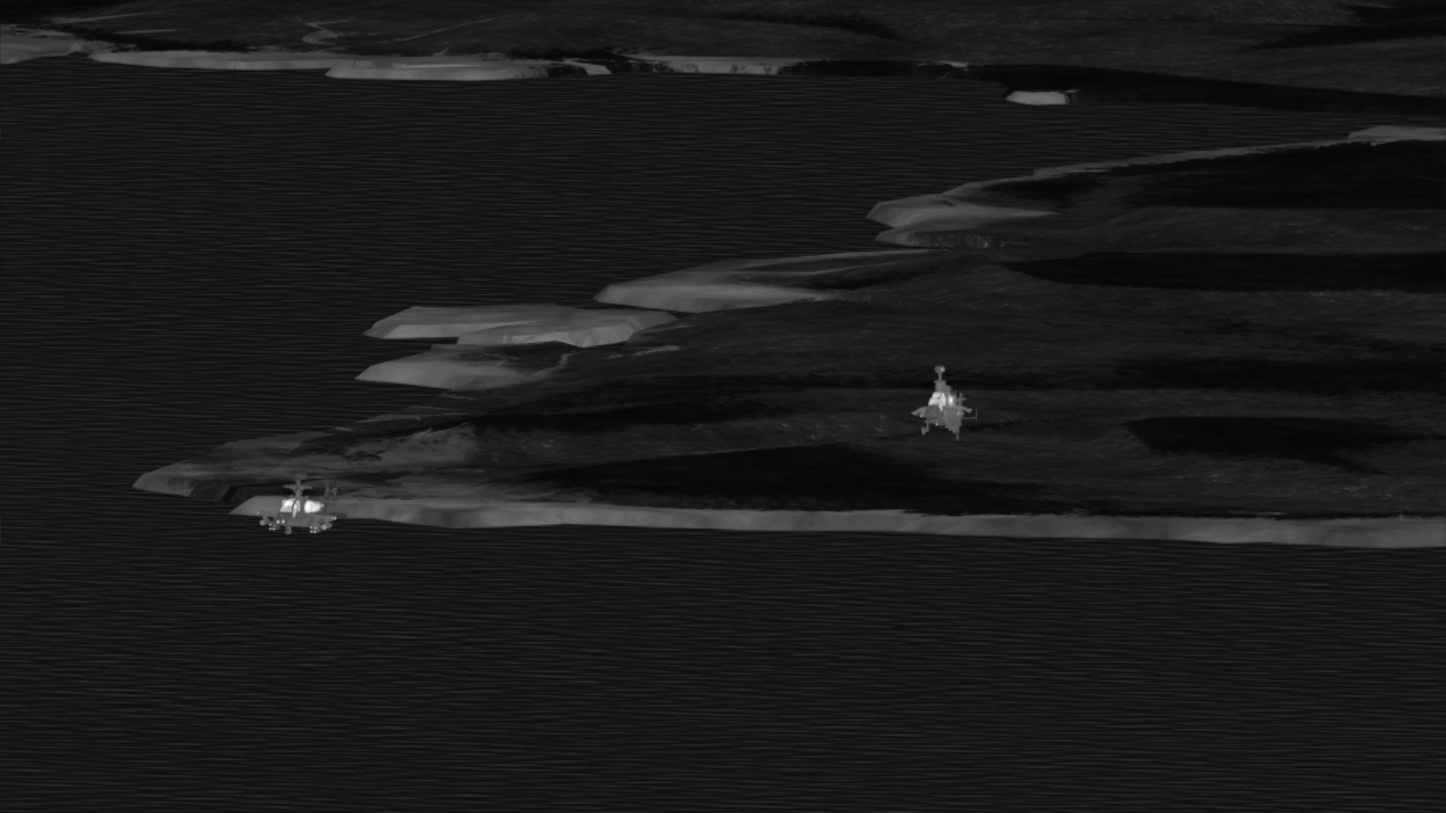ah64: (256, 472, 342, 535)
ec665: (908, 367, 977, 440)
